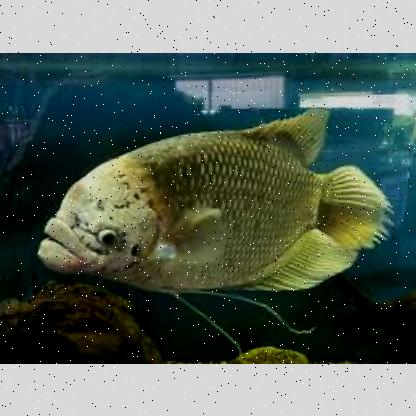gurame: (44, 132, 378, 294)
